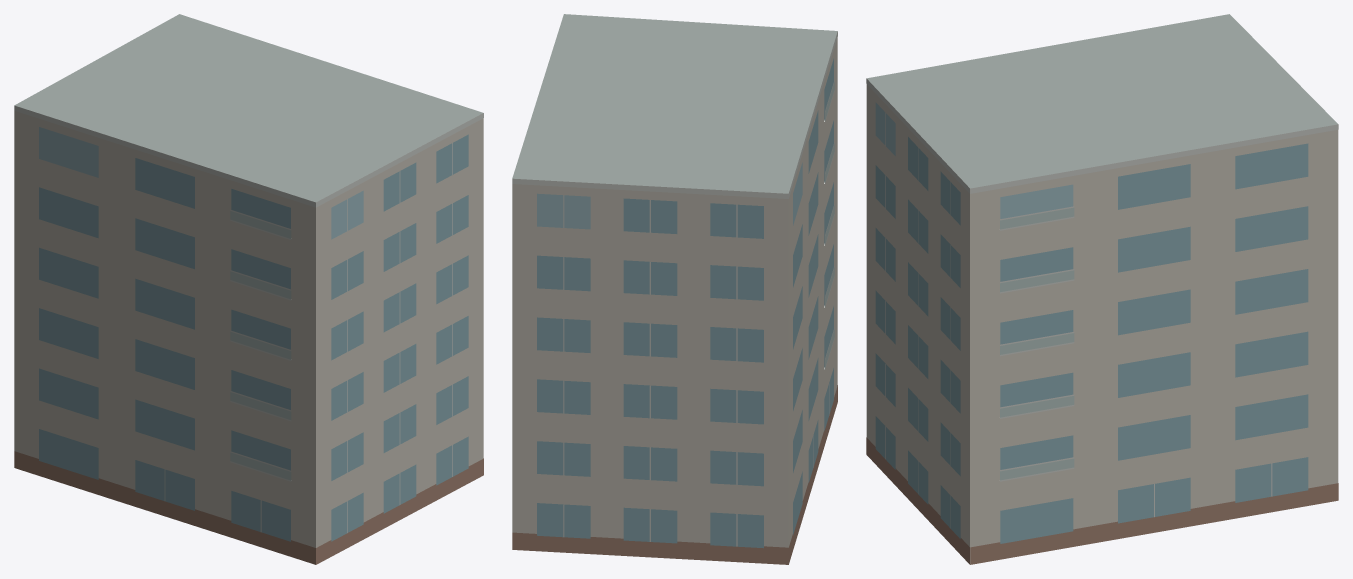
File: survey-upis-32866160.glb
The picture shows the model from 3 angles, left to right: view 1: azimuth 30°, elevation 25°; view 2: azimuth 150°, elevation 25°; view 3: azimuth 270°, elevation 25°; orthographic projection. The views are drawn at different scales.
Visible parts, largest first — view 1: survey-upis-32866160.tmp; view 2: survey-upis-32866160.tmp; view 3: survey-upis-32866160.tmp.
Boxes of the visible parts, x1,y1,x2,y2 form: survey-upis-32866160.tmp: (14,14,483,564); survey-upis-32866160.tmp: (512,14,837,564); survey-upis-32866160.tmp: (866,14,1338,564).
Size of the model in its own units: 17.02 by 17.1 by 19.45.
